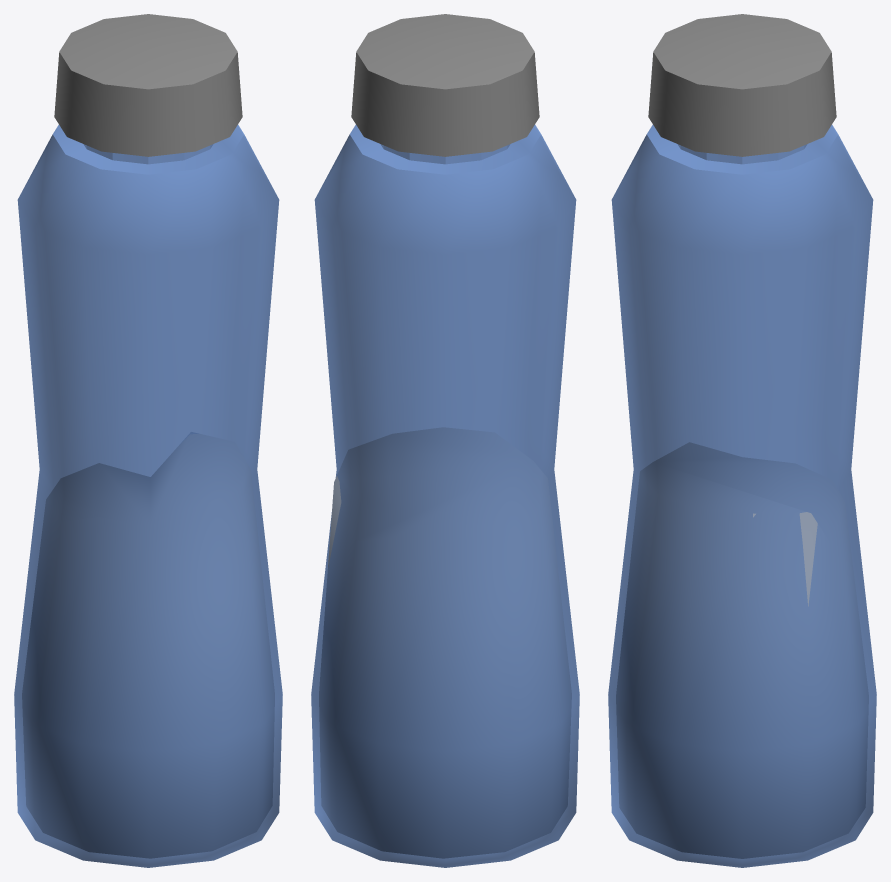
Rendered from water_bottle.fbx.
3 renders of one model, left to right at view 1: azimuth 30°, elevation 25°; view 2: azimuth 150°, elevation 25°; view 3: azimuth 270°, elevation 25°, orthographic.
Visible parts, largest first — view 1: polySurface123, polySurface124; view 2: polySurface123, polySurface124; view 3: polySurface123, polySurface124.
Boxes of the visible parts, x1,y1,x2,y2 form: polySurface123: (14,14,282,867); polySurface124: (22,434,274,858); polySurface123: (311,14,579,867); polySurface124: (319,427,571,858); polySurface123: (608,14,876,867); polySurface124: (616,442,868,858).
Size of the model in its own units: 7.49 by 24.08 by 7.49.
